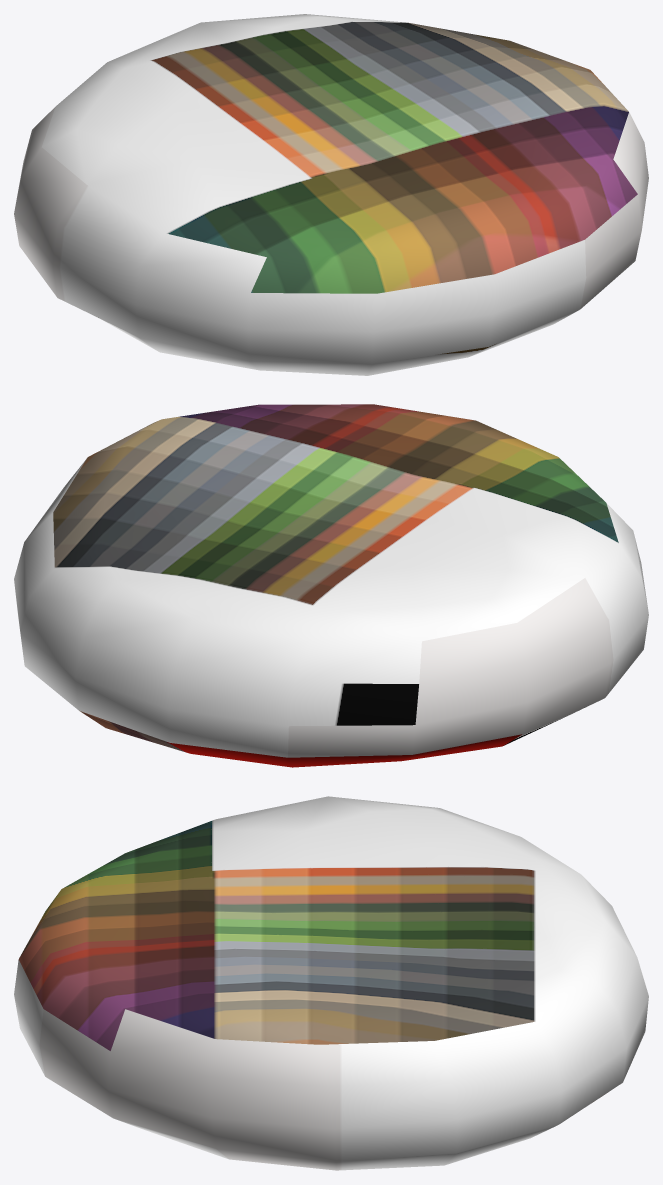
File: SM_Prop_Food_Meat_Patty_Cooked.fbx
The picture shows the model from 3 angles, top to bottom: view 1: azimuth 30°, elevation 25°; view 2: azimuth 150°, elevation 25°; view 3: azimuth 270°, elevation 25°; orthographic projection.
Parts seen in each view (by area): view 1: SM_Prop_Food_Meat_Patty_Cooked_01; view 2: SM_Prop_Food_Meat_Patty_Cooked_01; view 3: SM_Prop_Food_Meat_Patty_Cooked_01.
Boxes of the visible parts, left/top/right/bottom form: SM_Prop_Food_Meat_Patty_Cooked_01: left=14, top=14, right=648, bottom=375; SM_Prop_Food_Meat_Patty_Cooked_01: left=14, top=404, right=648, bottom=767; SM_Prop_Food_Meat_Patty_Cooked_01: left=14, top=796, right=648, bottom=1170.
Size of the model in its own units: 20.75 by 5.7 by 20.48.
